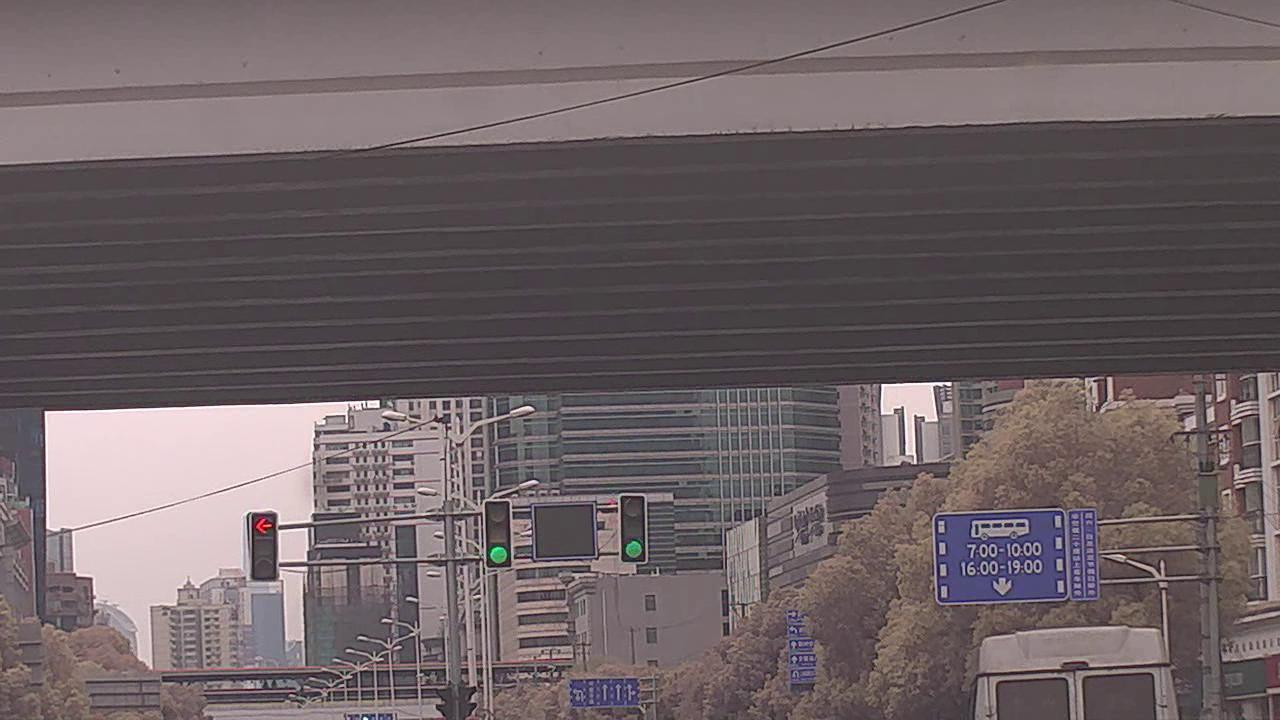traffic_light: (245, 512, 278, 584), (483, 498, 516, 570), (621, 496, 645, 561)
